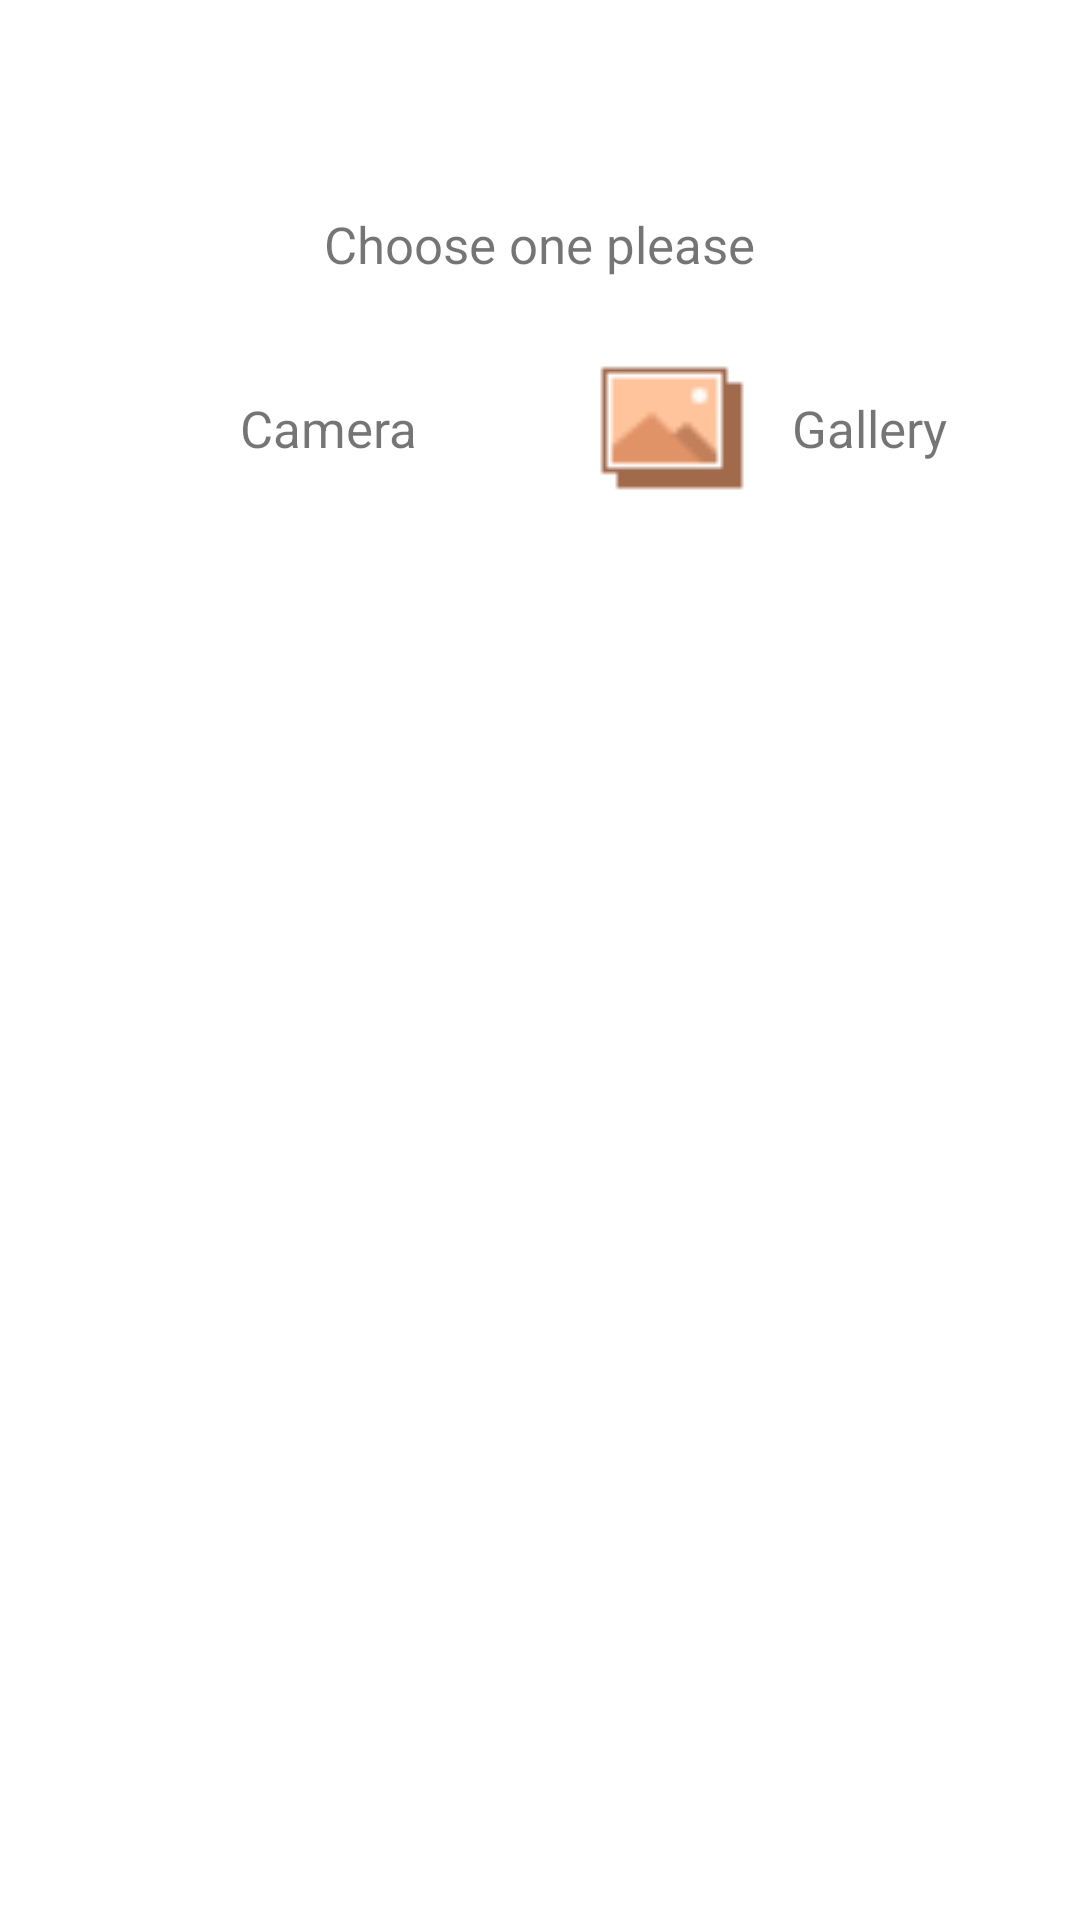

Where icons sit on this 1080px x 1920px app screen, as [x1,y1,x2,y2]:
gal: [600,366,744,490]
